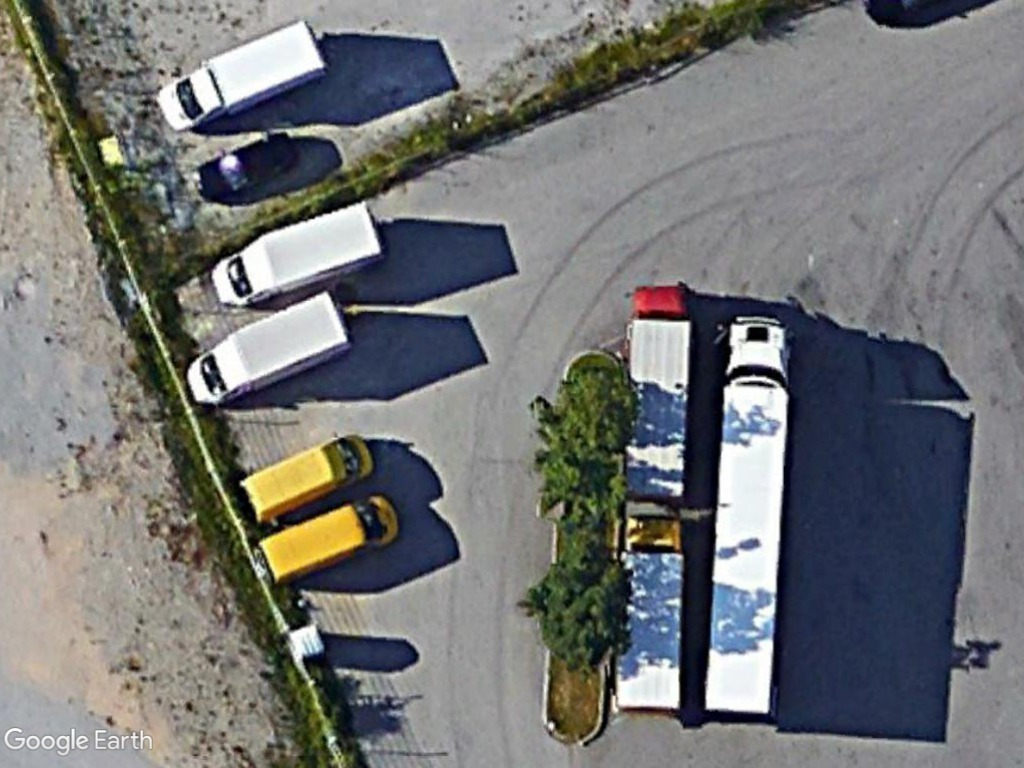car: (190, 128, 298, 203)
longvehicle: (697, 309, 802, 719)
truck: (186, 286, 356, 410), (152, 15, 326, 136), (206, 194, 387, 309), (623, 278, 695, 504)
van: (255, 490, 404, 587), (237, 428, 375, 523)
